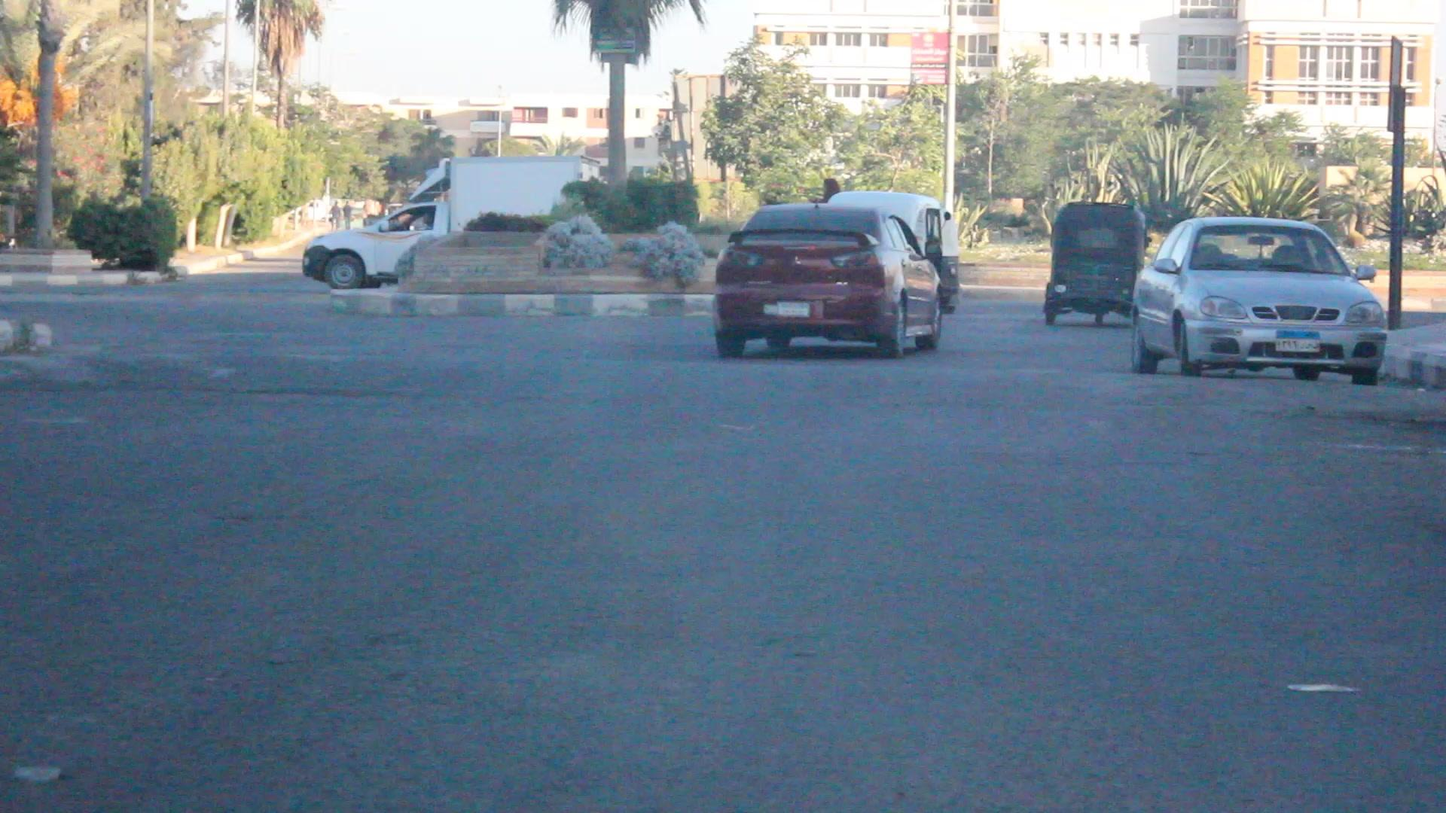Bump: (0, 346, 1445, 428)
